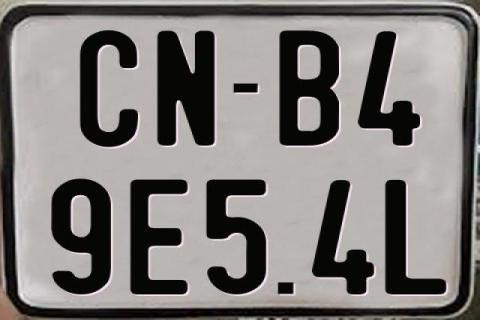0: (204, 177, 269, 295), (48, 176, 111, 296), (312, 180, 375, 298), (358, 30, 420, 144)
B: (278, 30, 338, 146)
C: (80, 29, 138, 148)
E: (127, 177, 186, 293)
L: (383, 178, 450, 296)
N: (156, 30, 214, 148)
